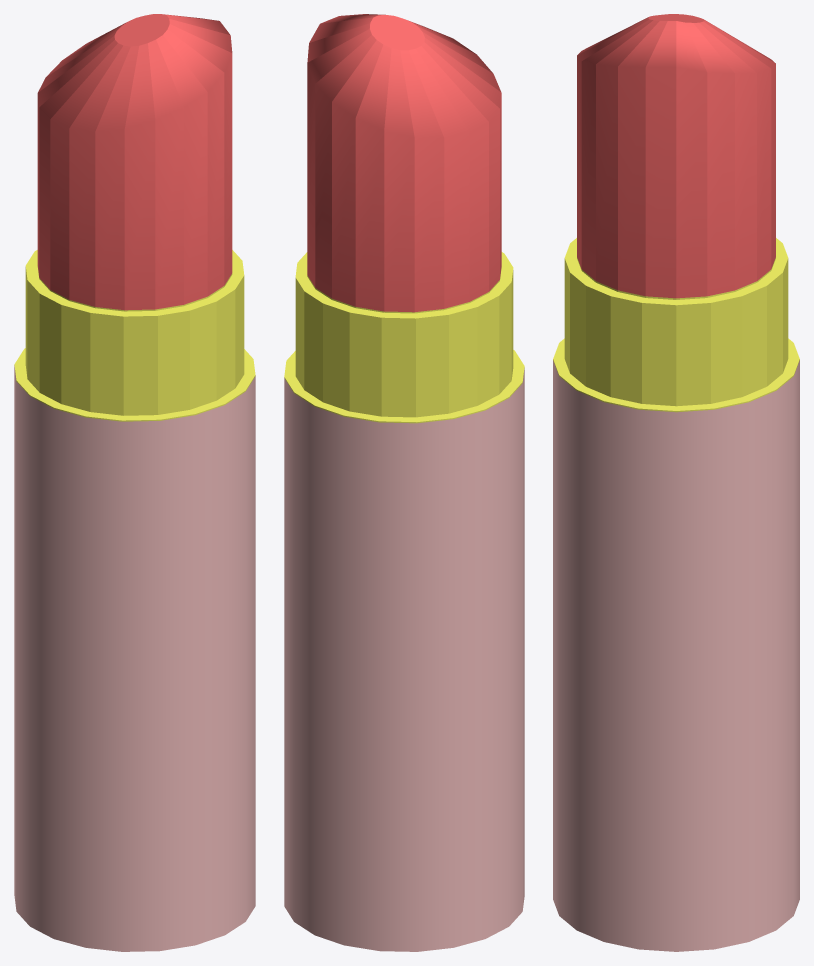
The model's file is kouhong.fbx.
3 views of the same model, side by side, from view 1: azimuth 30°, elevation 25°; view 2: azimuth 150°, elevation 25°; view 3: azimuth 270°, elevation 25° (orthographic). The views are drawn at different scales.
Visible parts, largest first — view 1: polySurface1, polySurface4, polySurface3; view 2: polySurface1, polySurface4, polySurface3; view 3: polySurface1, polySurface4, polySurface3.
Boxes of the visible parts, x1,y1,x2,y2 form: polySurface1: (14, 366, 255, 951); polySurface4: (37, 14, 232, 310); polySurface3: (14, 250, 255, 421); polySurface1: (284, 369, 524, 951); polySurface4: (307, 14, 501, 312); polySurface3: (284, 252, 524, 423); polySurface1: (553, 360, 799, 951); polySurface4: (577, 14, 775, 298); polySurface3: (553, 238, 799, 412).
Size of the model in its own units: 0.5 by 0.5 by 2.
